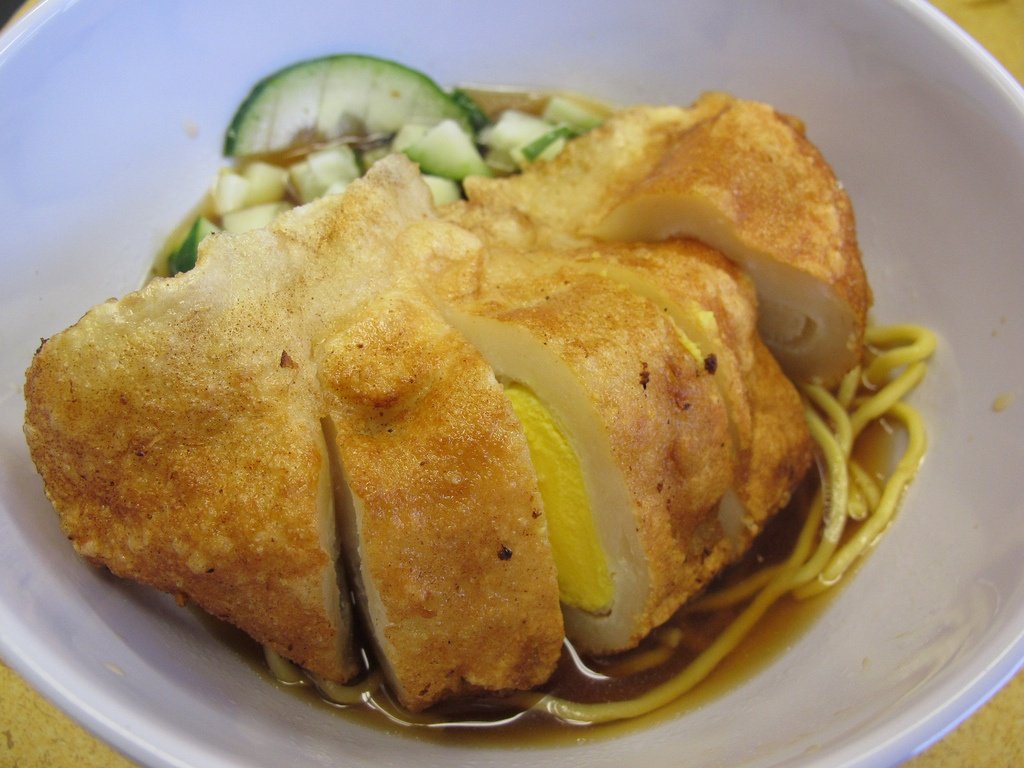pempek: (23, 87, 864, 702)
